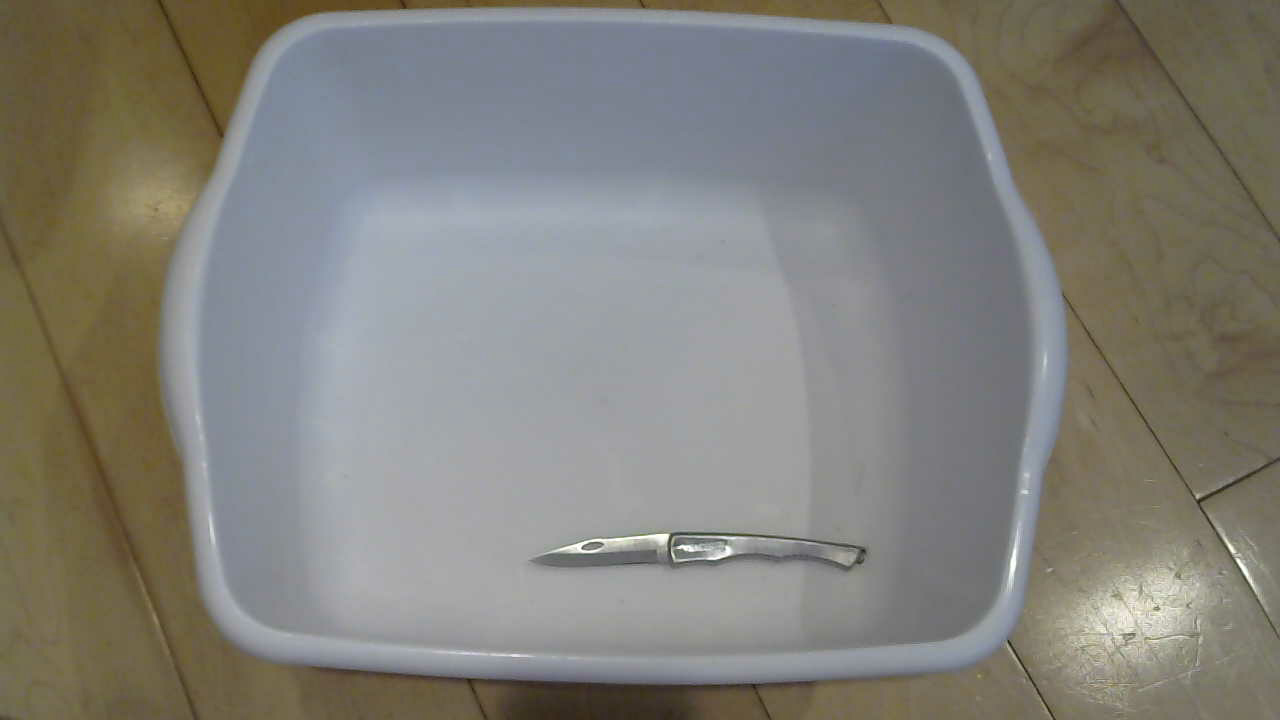knife: (516, 509, 891, 614)
